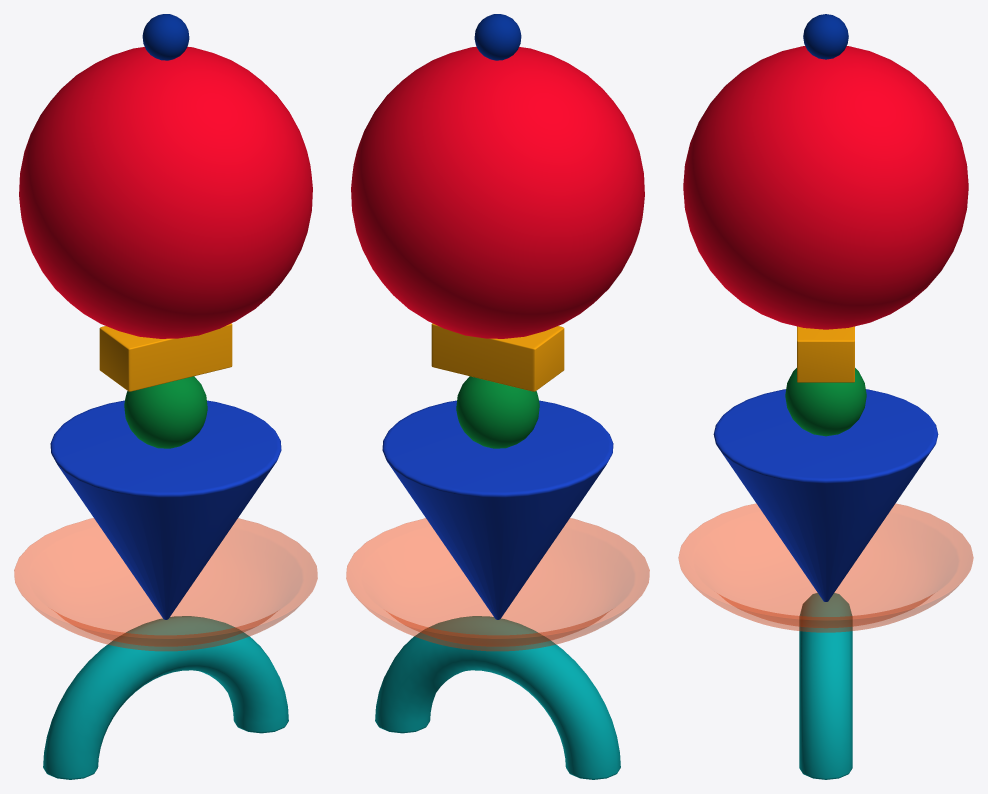
The model's file is BrandingBalance.gltf.
3 renders of one model, left to right at view 1: azimuth 30°, elevation 25°; view 2: azimuth 150°, elevation 25°; view 3: azimuth 270°, elevation 25°, orthographic. The views are drawn at different scales.
Visible parts, largest first — view 1: Icosphere, Cylinder, Sphere, Torus, Cube, Icosphere.002, Icosphere.001; view 2: Icosphere, Cylinder, Sphere, Torus, Cube, Icosphere.002, Icosphere.001; view 3: Icosphere, Cylinder, Sphere, Torus, Icosphere.002, Cube, Icosphere.001.
Part boxes in pixels (x1,y1,x2,y2): Icosphere: (19, 46, 312, 338); Cylinder: (50, 400, 281, 619); Sphere: (14, 518, 317, 650); Torus: (43, 616, 288, 779); Cube: (99, 323, 232, 391); Icosphere.002: (124, 376, 207, 448); Icosphere.001: (142, 14, 189, 60); Icosphere: (351, 46, 644, 338); Cylinder: (382, 400, 613, 619); Sphere: (346, 518, 649, 650); Torus: (375, 616, 620, 779); Cube: (431, 323, 564, 391); Icosphere.002: (456, 376, 539, 448); Icosphere.001: (474, 14, 521, 60); Icosphere: (683, 46, 968, 329); Cylinder: (713, 389, 938, 601); Sphere: (678, 503, 973, 632); Torus: (799, 593, 852, 779); Icosphere.002: (785, 368, 866, 436); Cube: (797, 326, 854, 382); Icosphere.001: (803, 14, 848, 59).
Bounding box in the file's own units: 1.66 × 4.38 × 1.66.
